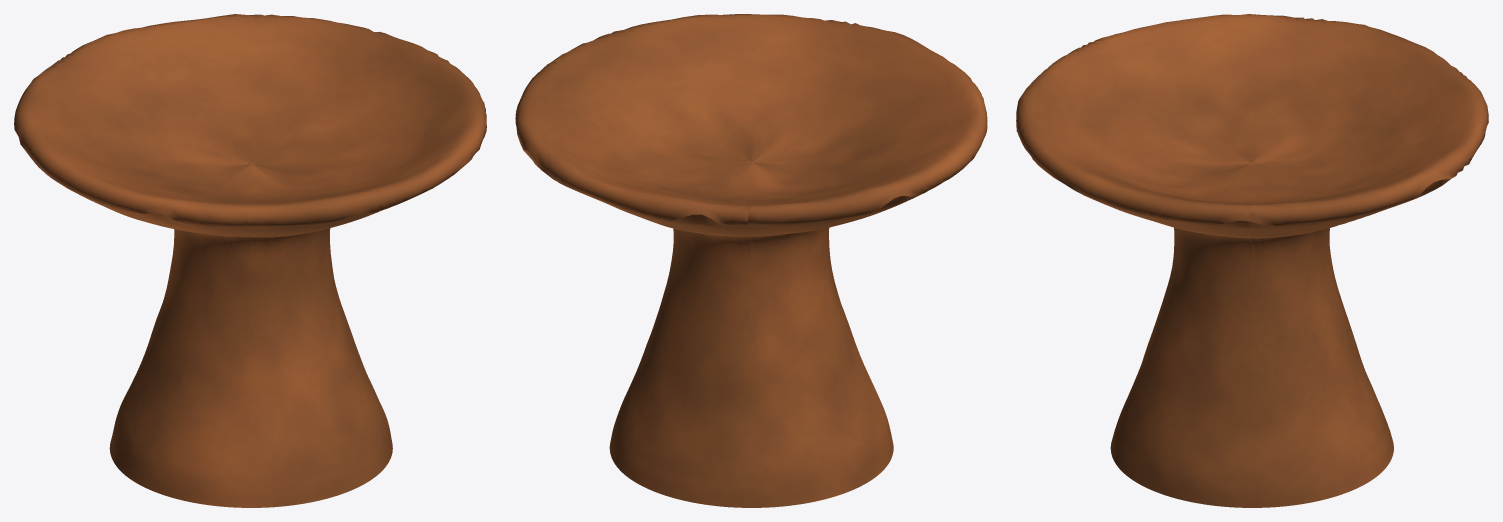
File: pottery.glb
The picture shows the model from 3 angles, left to right: view 1: azimuth 30°, elevation 25°; view 2: azimuth 150°, elevation 25°; view 3: azimuth 270°, elevation 25°; orthographic projection.
Visible parts, largest first — view 1: Pottery_Piece_06, Pottery_Piece_02, Pottery_Piece_01, Pottery_Piece_04, Pottery_Piece_05, Pottery_Base; view 2: Pottery_Piece_04, Pottery_Piece_03, Pottery_Piece_02, Pottery_Piece_05, Pottery_Piece_06, Pottery_Base; view 3: Pottery_Piece_05, Pottery_Piece_03, Pottery_Piece_01, Pottery_Piece_06, Pottery_Piece_04, Pottery_Base.
Part boxes in pixels (x1,y1,x2,y2): Pottery_Piece_06: [53, 14, 449, 163]; Pottery_Piece_02: [15, 131, 257, 464]; Pottery_Piece_01: [241, 210, 382, 465]; Pottery_Piece_04: [245, 63, 486, 228]; Pottery_Piece_05: [14, 64, 262, 231]; Pottery_Base: [109, 391, 392, 507]; Pottery_Piece_04: [552, 14, 954, 162]; Pottery_Piece_03: [523, 149, 757, 474]; Pottery_Piece_02: [742, 194, 921, 474]; Pottery_Piece_05: [745, 63, 987, 227]; Pottery_Piece_06: [515, 60, 763, 227]; Pottery_Base: [609, 389, 893, 507]; Pottery_Piece_05: [1053, 14, 1449, 163]; Pottery_Piece_03: [1242, 179, 1450, 475]; Pottery_Piece_01: [1055, 178, 1259, 458]; Pottery_Piece_06: [1246, 64, 1488, 225]; Pottery_Piece_04: [1016, 63, 1263, 226]; Pottery_Base: [1110, 393, 1393, 507].
Size of the model in its own units: 1.7 by 1.35 by 1.7.
3 materials, 1 textured.
